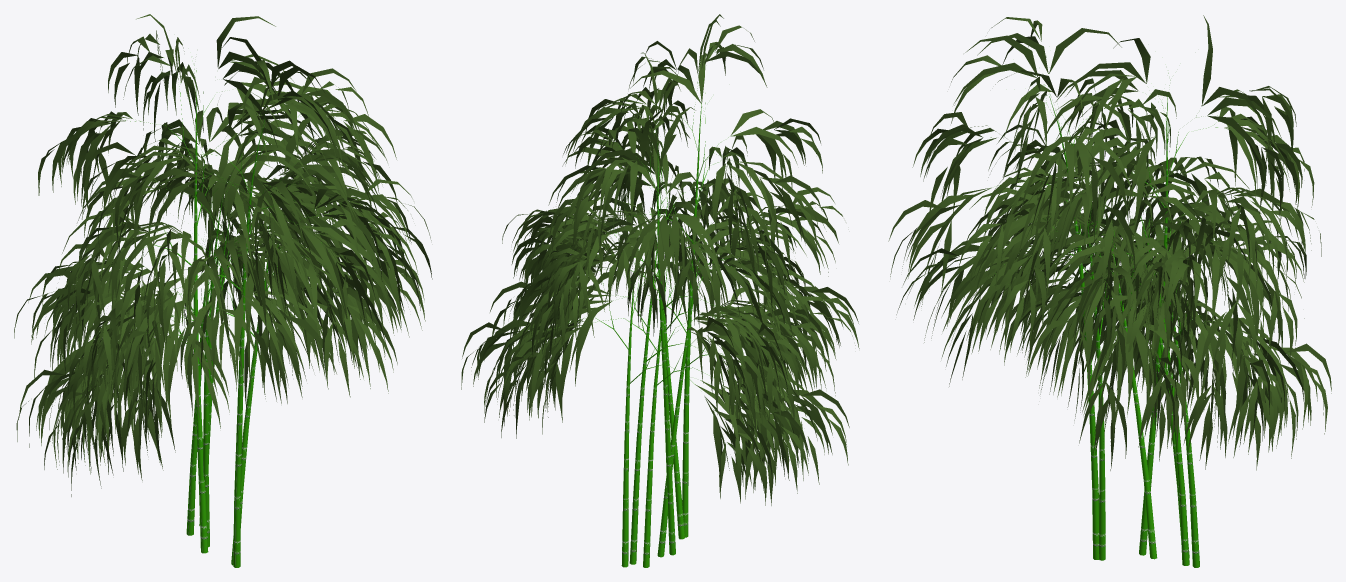
Rendered from plant_bamboo.fbx.
3 renders of one model, left to right at view 1: azimuth 30°, elevation 25°; view 2: azimuth 150°, elevation 25°; view 3: azimuth 270°, elevation 25°, orthographic. The views are drawn at different scales.
Parts seen in each view (by area): view 1: bamboo1Leaf, bamboo1Main; view 2: bamboo1Leaf, bamboo1Main; view 3: bamboo1Leaf, bamboo1Main.
Part boxes in pixels (x1=…): bamboo1Leaf: x1=14, y1=14, x2=432, y2=496; bamboo1Main: x1=118, y1=65, x2=341, y2=567; bamboo1Leaf: x1=461, y1=14, x2=859, y2=505; bamboo1Main: x1=556, y1=69, x2=767, y2=567; bamboo1Leaf: x1=888, y1=15, x2=1331, y2=470; bamboo1Main: x1=990, y1=73, x2=1230, y2=567.
Size of the model in its own units: 9.55 by 13.16 by 9.91.
Materials: 2 (1 with a texture image).
